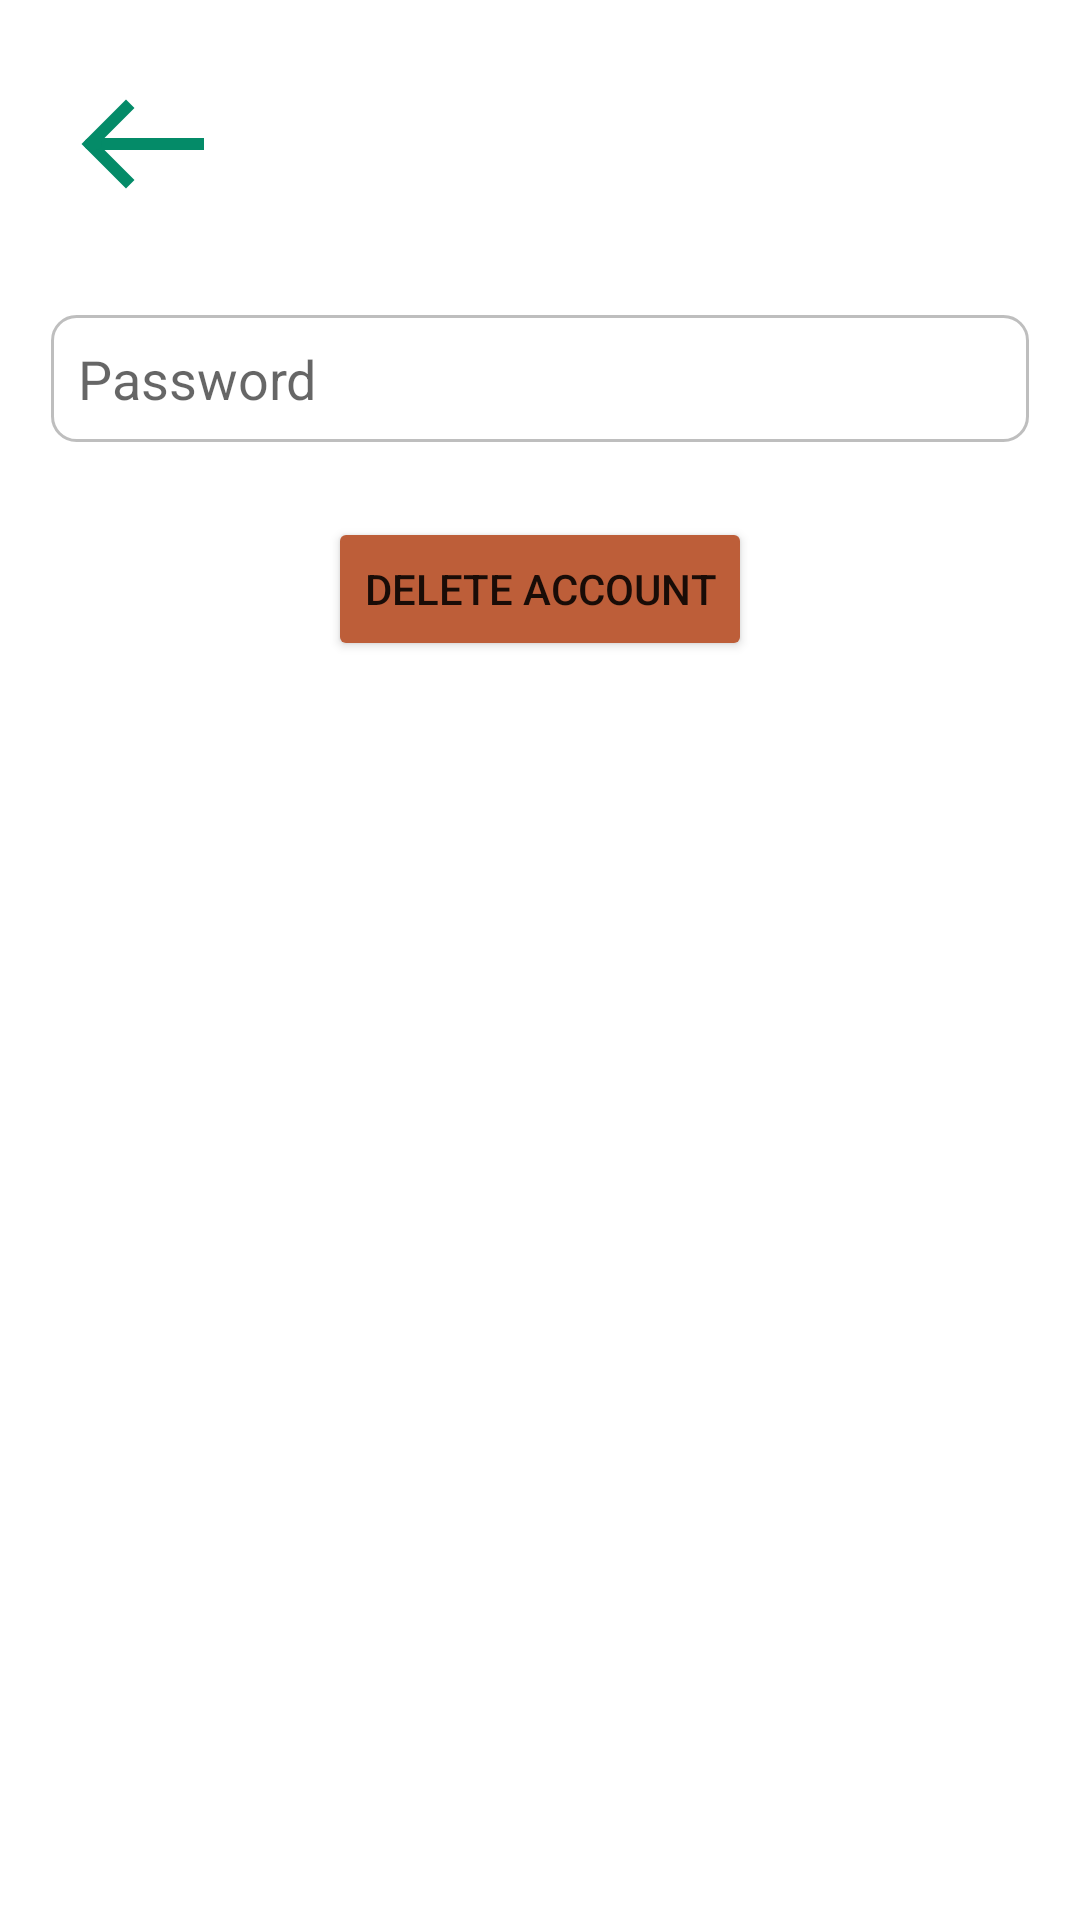

Screen size 1080×1920. Icon name, then its center in pixels as point (x, y):
Back: point (142, 144)
